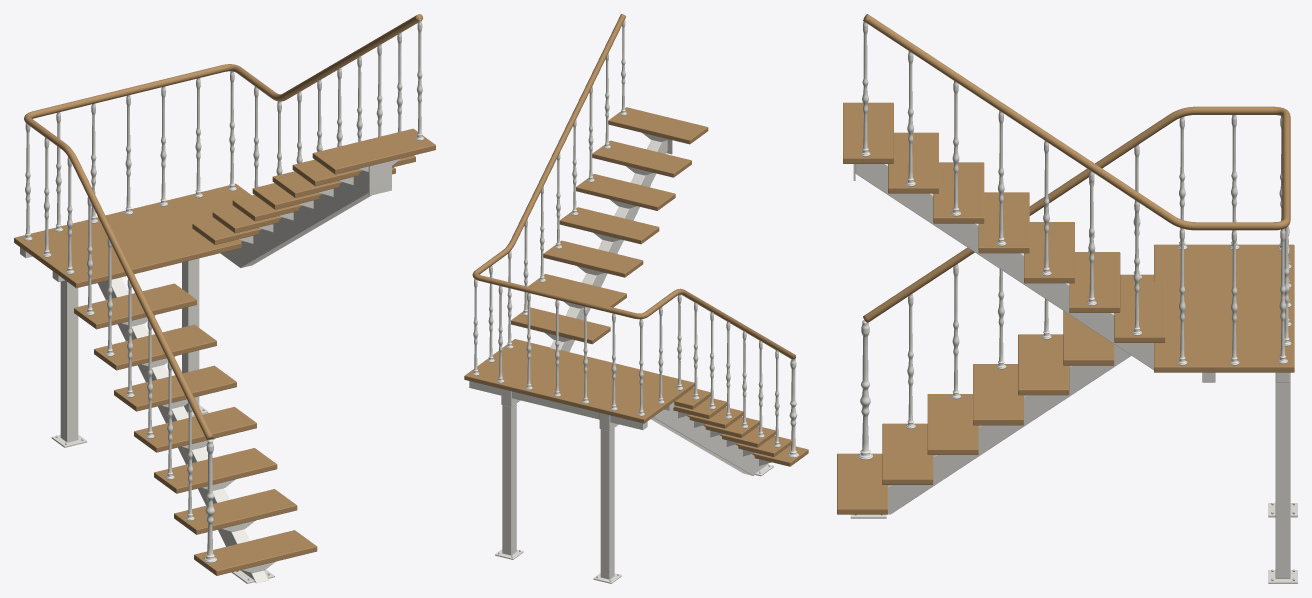
The model's file is white-DedZFtct.glb.
3 renders of one model, left to right at view 1: azimuth 30°, elevation 25°; view 2: azimuth 150°, elevation 25°; view 3: azimuth 270°, elevation 25°, orthographic. The views are drawn at different scales.
Visible parts, largest first — view 1: Rail continuous lacquered handrail, Frame landing cross; view 2: Rail continuous lacquered handrail, Frame landing cross; view 3: Rail continuous lacquered handrail, Frame landing cross.
Boxes of the visible parts, x1,y1,x2,y2 form: Rail continuous lacquered handrail: (14, 14, 435, 575); Frame landing cross: (20, 19, 424, 583); Rail continuous lacquered handrail: (464, 14, 808, 466); Frame landing cross: (469, 20, 798, 583); Rail continuous lacquered handrail: (837, 14, 1294, 514); Frame landing cross: (850, 19, 1297, 583).
Size of the model in its own units: 1.76 by 3.94 by 2.8.
